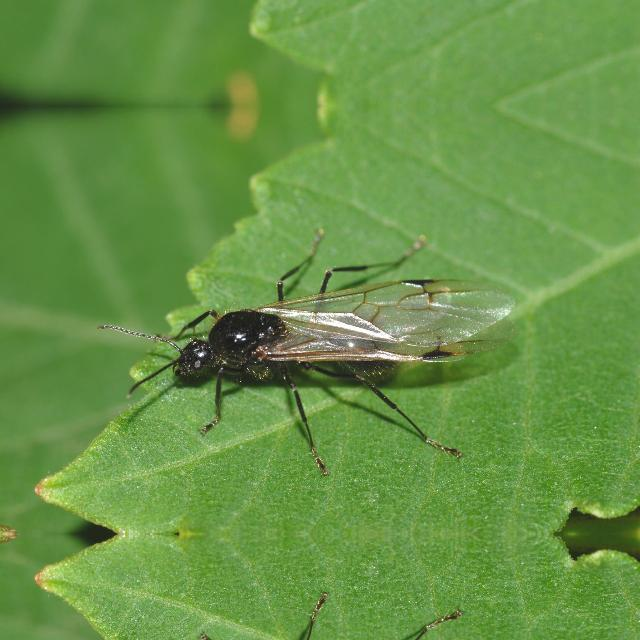Messor: (132, 289, 418, 413)
